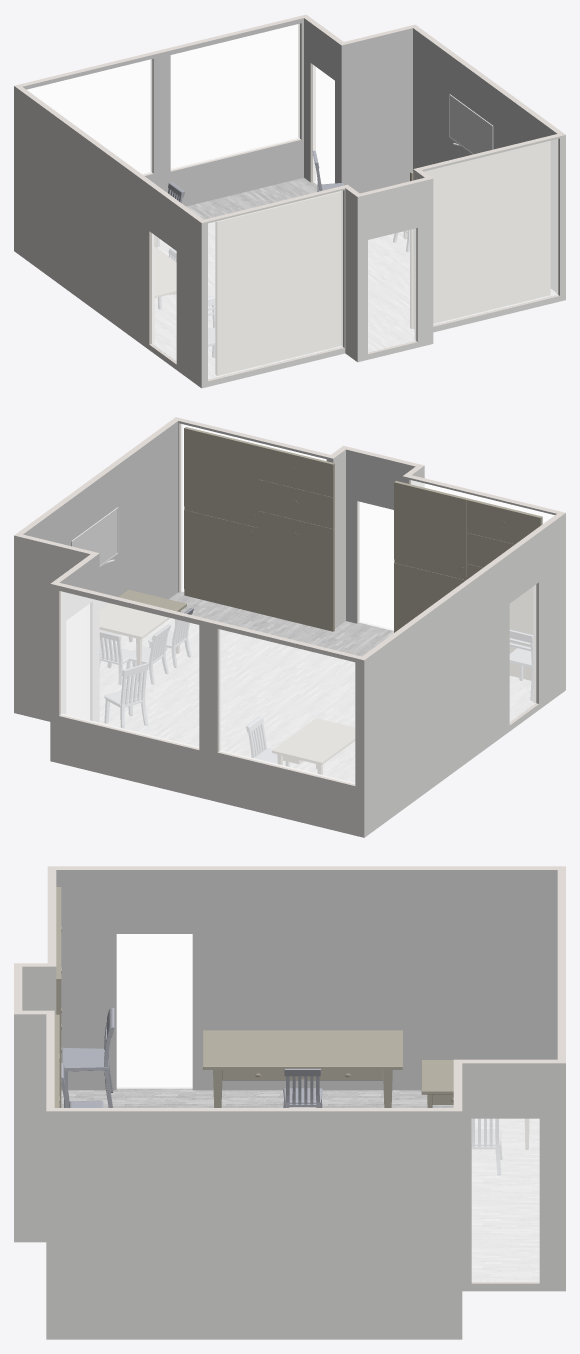
File: Room_233A.glb
3 renders of one model, top to bottom at view 1: azimuth 30°, elevation 25°; view 2: azimuth 150°, elevation 25°; view 3: azimuth 270°, elevation 25°, orthographic. The views are drawn at different scales.
Visible parts, largest first — view 1: wall_9, door_1, door_6, door_4, door_9, storage_cabinet_tall20, storage_cabinet_tall21, window_0, window_2, wall_18, wall_24, floor_Dining_Room (+23 smaller); view 2: wall_9, storage_cabinet_tall21, floor_Dining_Room, wall_2, window_0, window_2, window_1, window_3, storage_cabinet_tall20, wall_24, wall_4, door_0 (+27 smaller); view 3: wall_7, wall_28, floor_Dining_Room, wall_5, door_3, door_8, door_2, door_7, table_other_rect0, wall_0, wall_29, wall_15 (+10 smaller).
Boxes of the visible parts, x1,y1,x2,y2 form: wall_9: (14, 86, 201, 387); door_1: (208, 191, 342, 379); door_6: (208, 191, 342, 379); door_4: (424, 139, 557, 324); door_9: (425, 139, 557, 324); storage_cabinet_tall20: (215, 188, 353, 375); storage_cabinet_tall21: (410, 141, 550, 328); window_0: (171, 24, 299, 169); window_2: (171, 24, 299, 169); wall_18: (341, 28, 412, 193); wall_24: (413, 28, 557, 292); floor_Dining_Room: (152, 178, 557, 379); wall_9: (364, 513, 565, 837); storage_cabinet_tall21: (184, 427, 334, 631); floor_Dining_Room: (100, 591, 535, 782); wall_2: (50, 584, 364, 837); window_0: (61, 591, 198, 747); window_2: (61, 591, 198, 747); window_1: (219, 629, 354, 783); window_3: (219, 630, 354, 783); storage_cabinet_tall20: (394, 481, 542, 680); wall_24: (23, 421, 178, 648); wall_4: (14, 535, 90, 721); door_0: (358, 501, 393, 630); wall_7: (46, 1111, 462, 1339); wall_28: (56, 870, 557, 1090); floor_Dining_Room: (61, 1088, 539, 1281); wall_5: (462, 1063, 565, 1291); door_3: (117, 934, 192, 1088); door_8: (117, 934, 192, 1088); door_2: (472, 1119, 539, 1281); door_7: (472, 1119, 539, 1281); table_other_rect0: (203, 1030, 402, 1107); wall_0: (14, 1014, 46, 1242); wall_29: (48, 866, 565, 1088); wall_15: (557, 866, 565, 1062).
Size of the model in its own units: 6.84 by 2.97 by 6.51.
38 materials, 1 textured.
